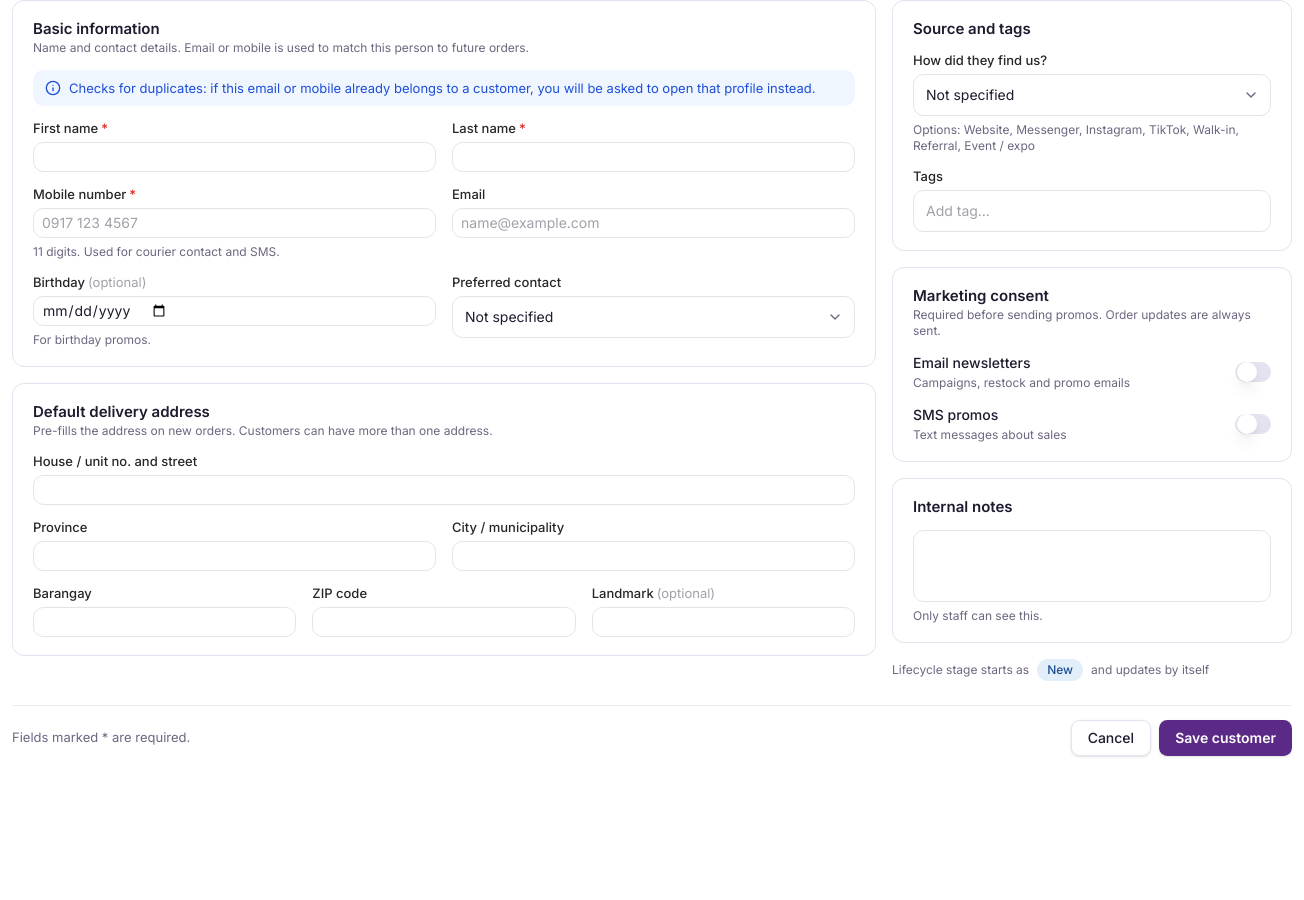
Test: AddCustomerForm › shows an inline error for a mobile number that is not 11 digits and an incomplete email
The width and height of the screenshot is (1304, 900).
Type "Ada" into the field labelled "First name *" at (234, 157), box [33,142,436,172]
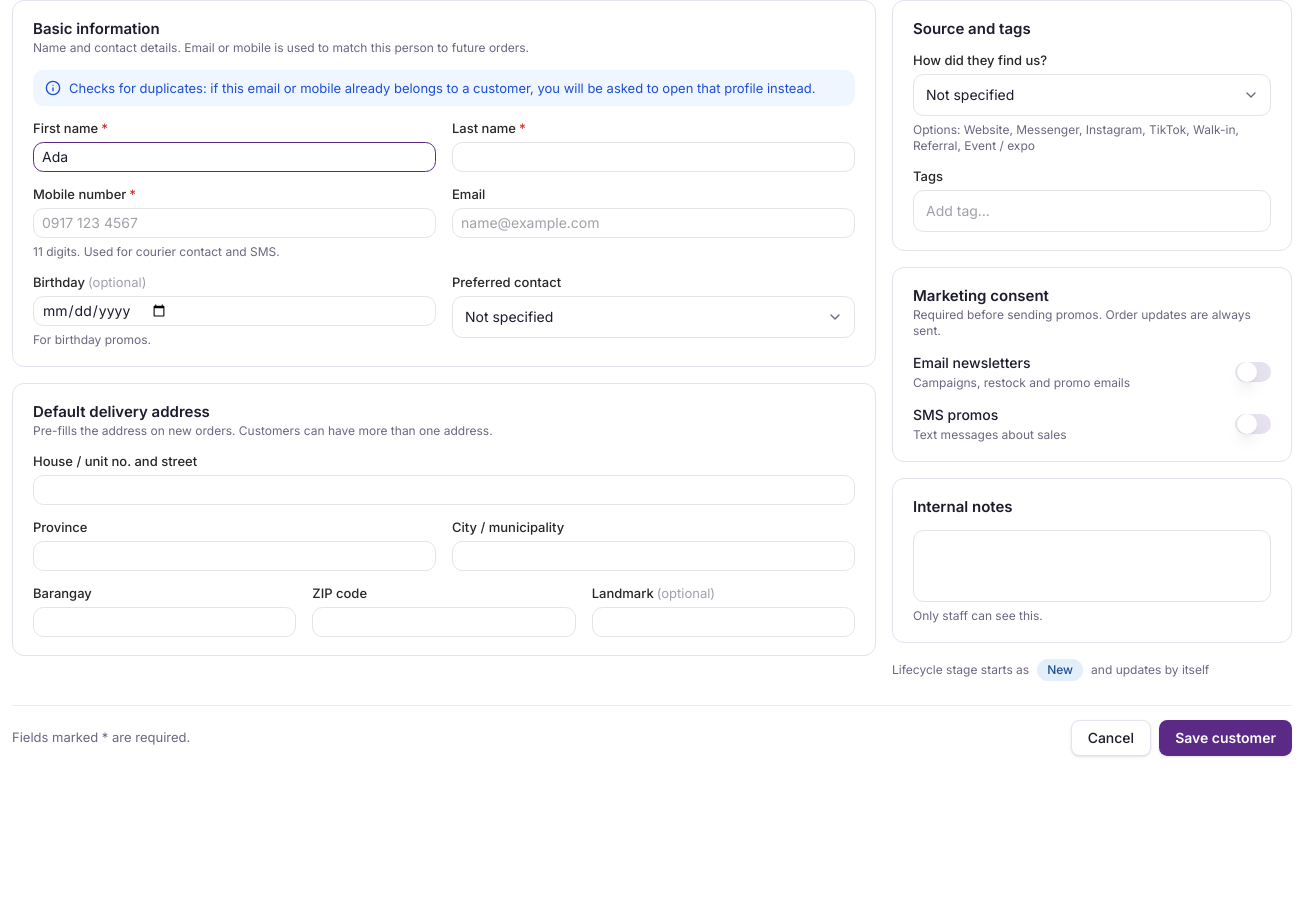
Type "Lovelace" into the field labelled "Last name *" at (654, 157), box [452,142,855,172]
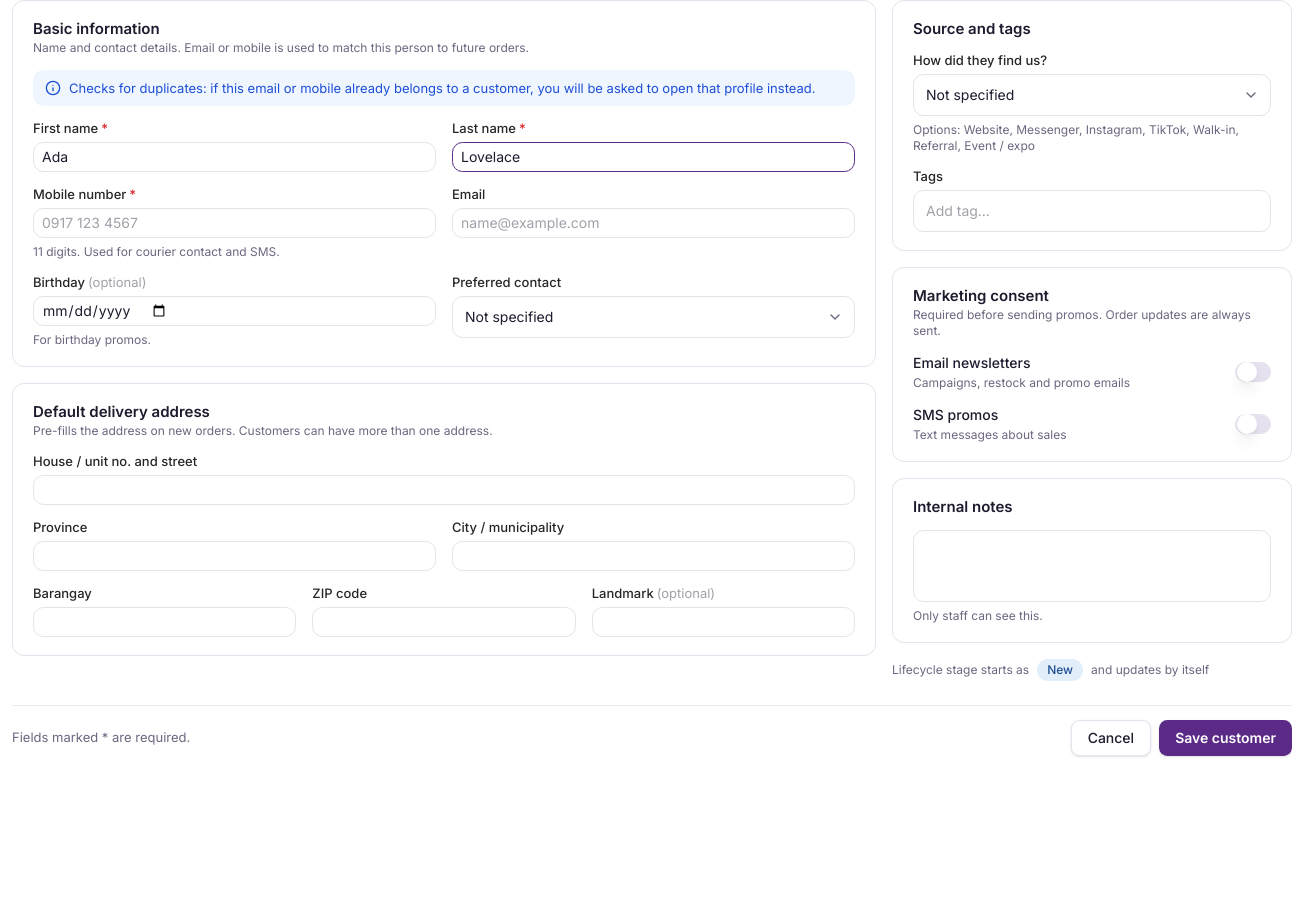
Type "0917" into the field labelled "Mobile number *" at (234, 223), box [33,208,436,238]
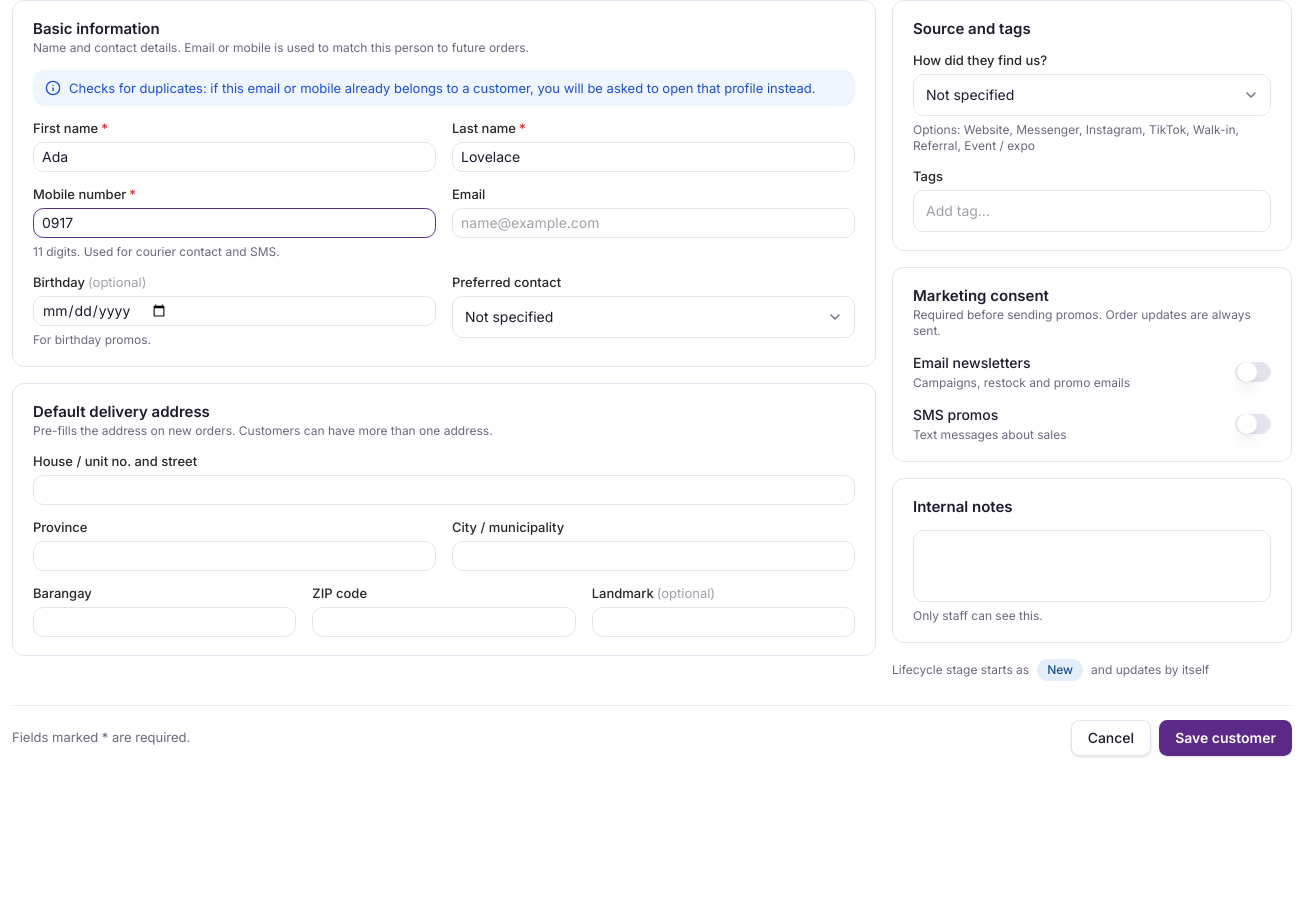
Type "ada@" into the field labelled "Email" at (654, 223), box [452,208,855,238]
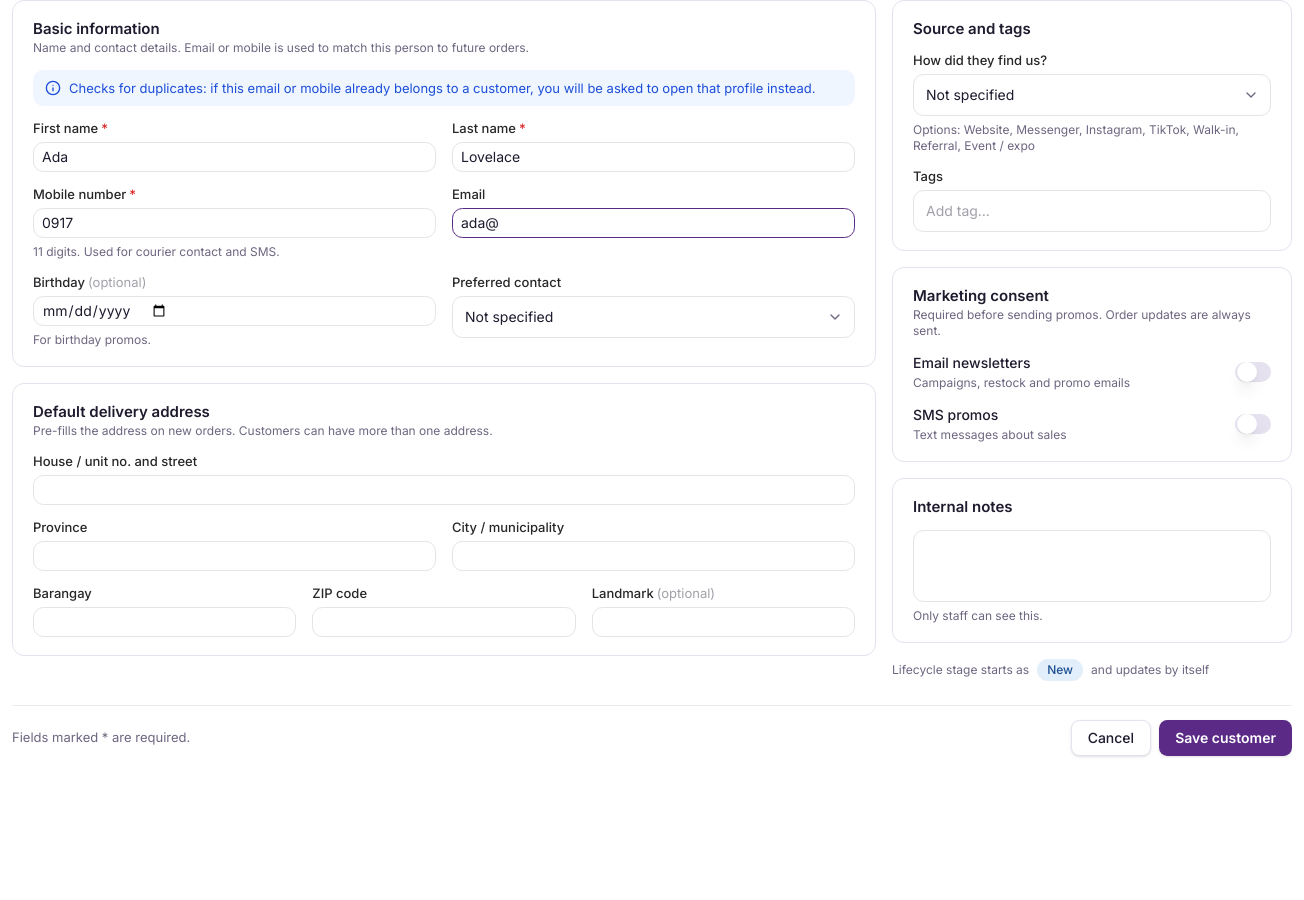
Click the button "Save customer" at (1226, 738), box [1159,720,1292,756]
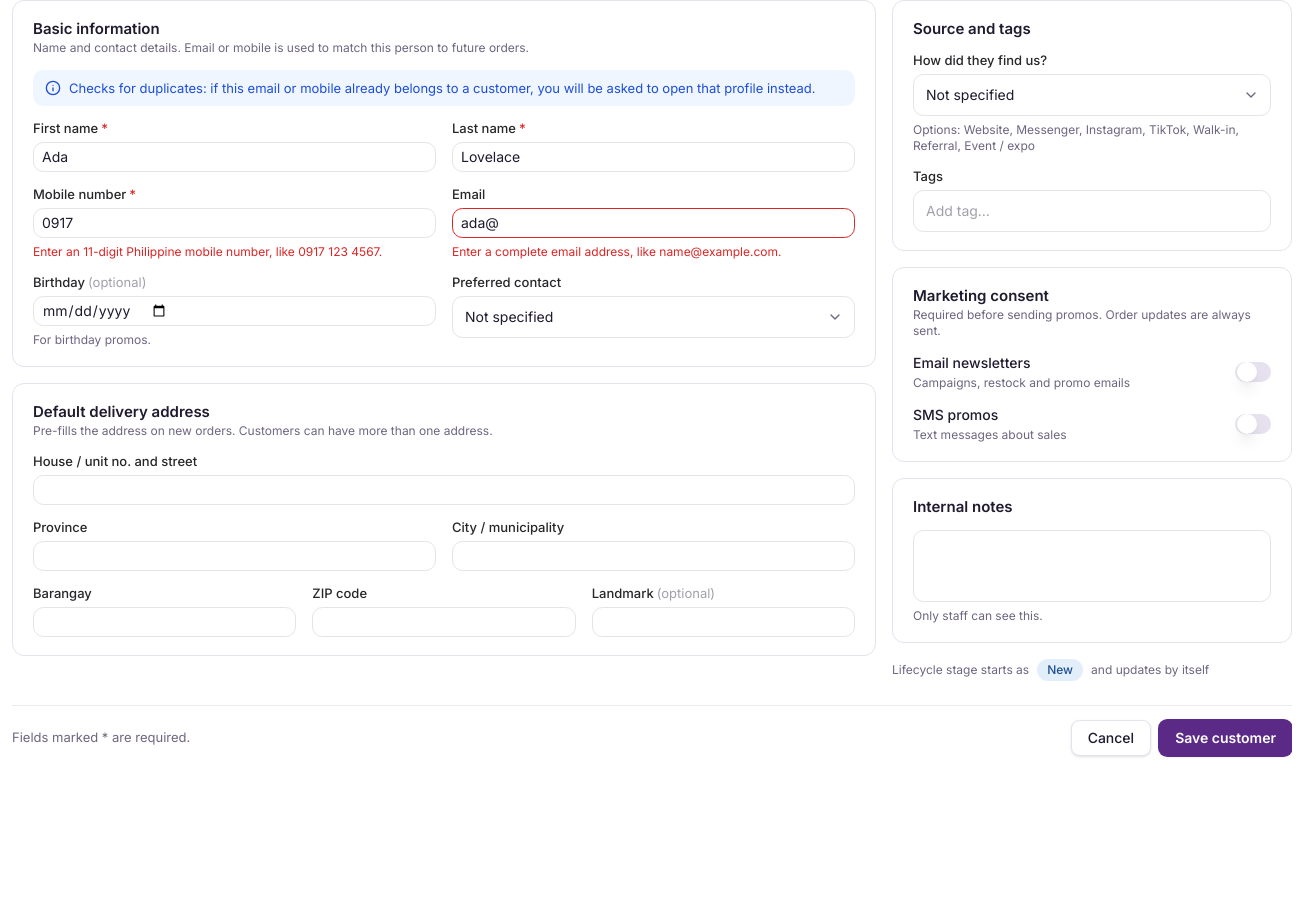
expect the text "Enter an 11-digit Philippine mobile number, like 0917 123 4567." is shown: met, box [33,244,436,260]
expect the text "Enter a complete email address, like name@example.com." is shown: met, box [452,244,782,259]
